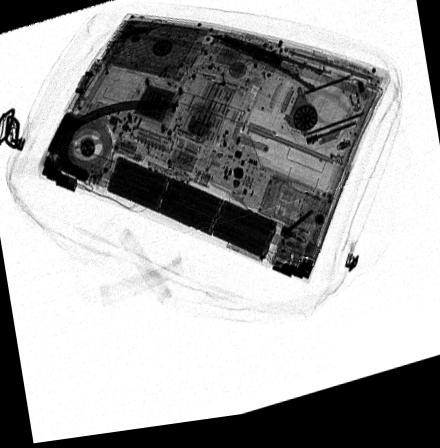Scissors: (207, 36, 389, 141)
